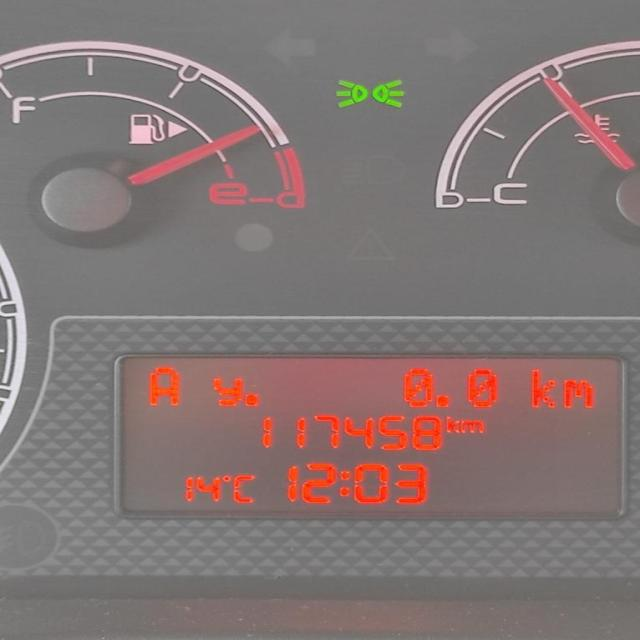odometer: (111, 352, 628, 521)
